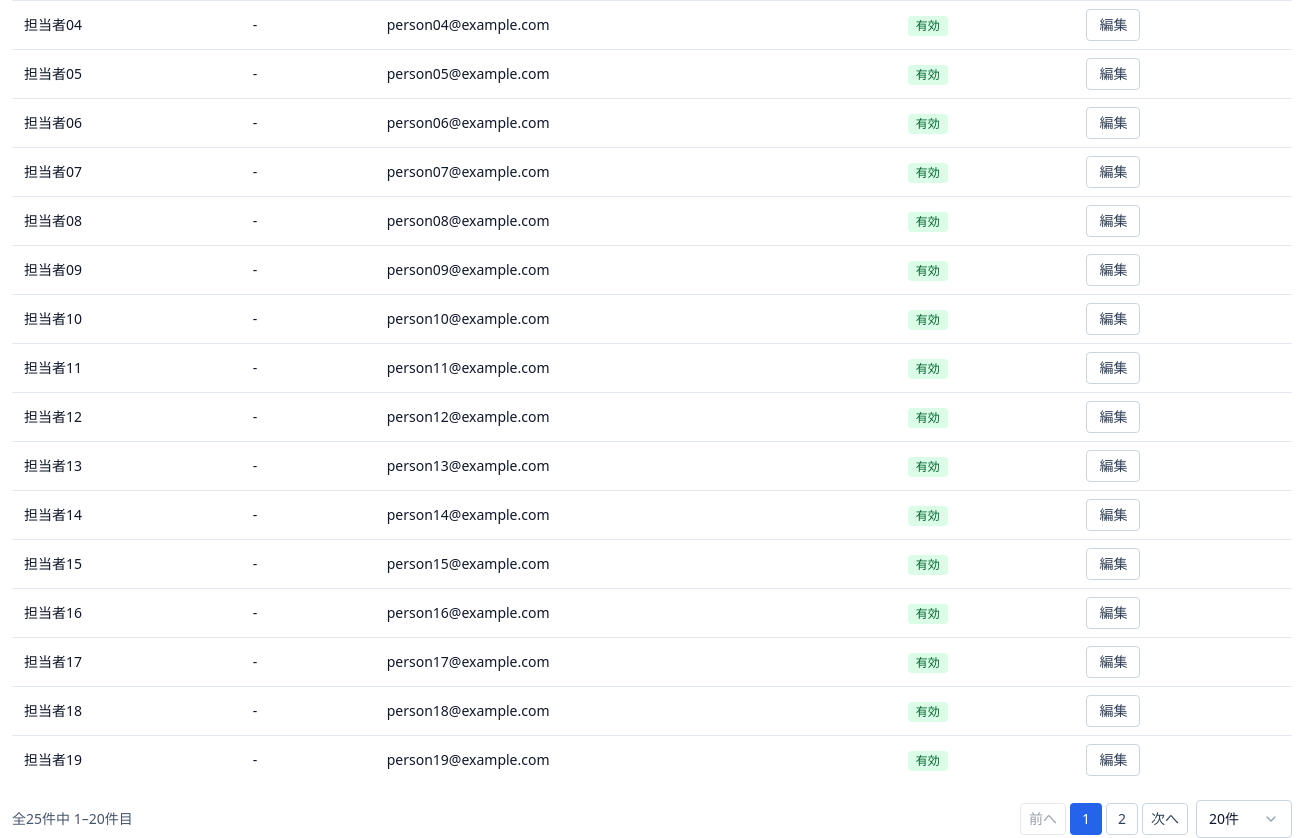
Test: PersonList: ページネーション › 次へ押下でページが切り替わり表示行が変わる
(page scrolled)
Expected: the text "担当者24" is not shown
Click the button "次へ". click: (1165, 819)
box: left=1142, top=803, right=1188, bottom=835
(page scrolled)
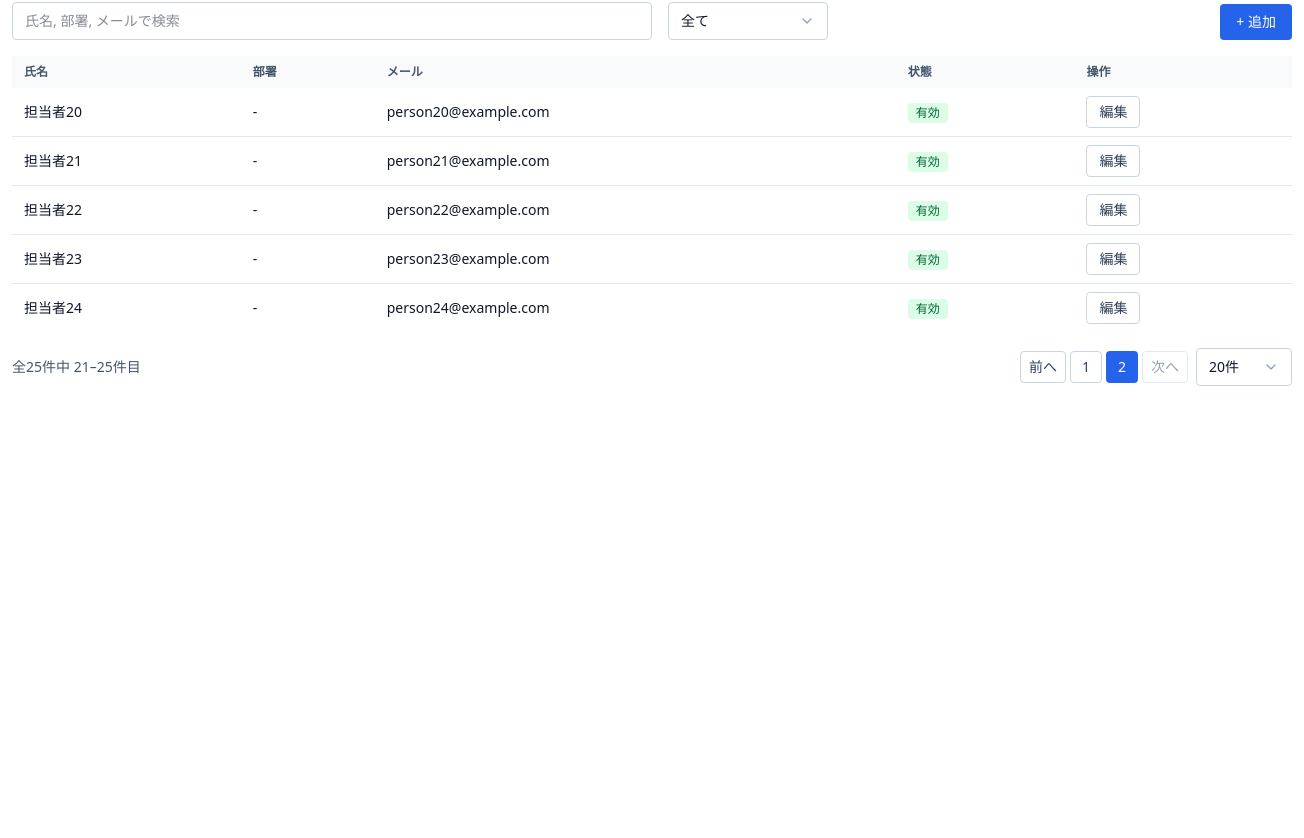
Now the text "担当者24" is shown, box left=24, top=298, right=82, bottom=317
